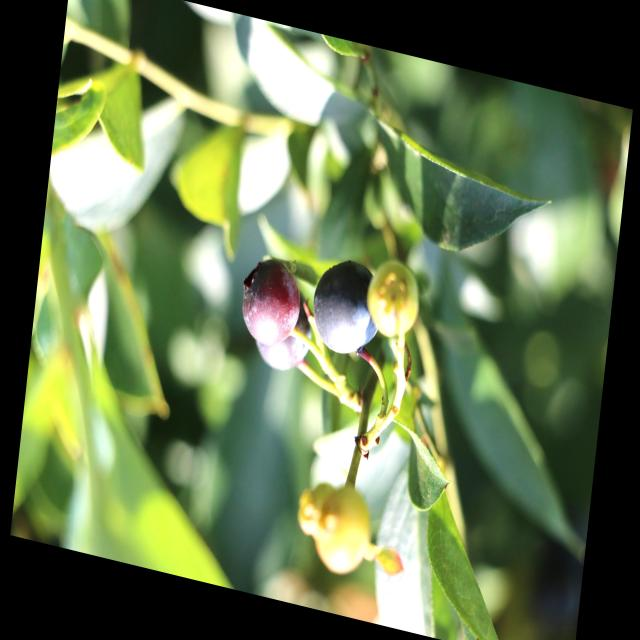blueberry: (307, 247, 387, 366), (250, 291, 319, 382)
blueberry-halfripe: (238, 254, 305, 352)
blueberry-unripe: (315, 480, 374, 582), (359, 252, 423, 346)
